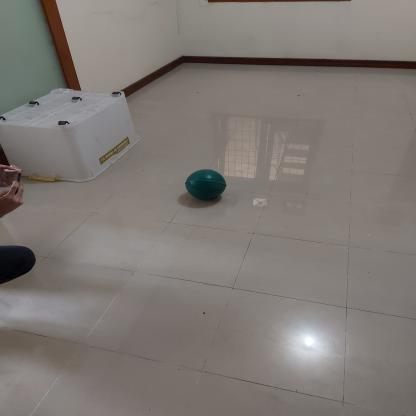green_buoy: (184, 167, 228, 202)
